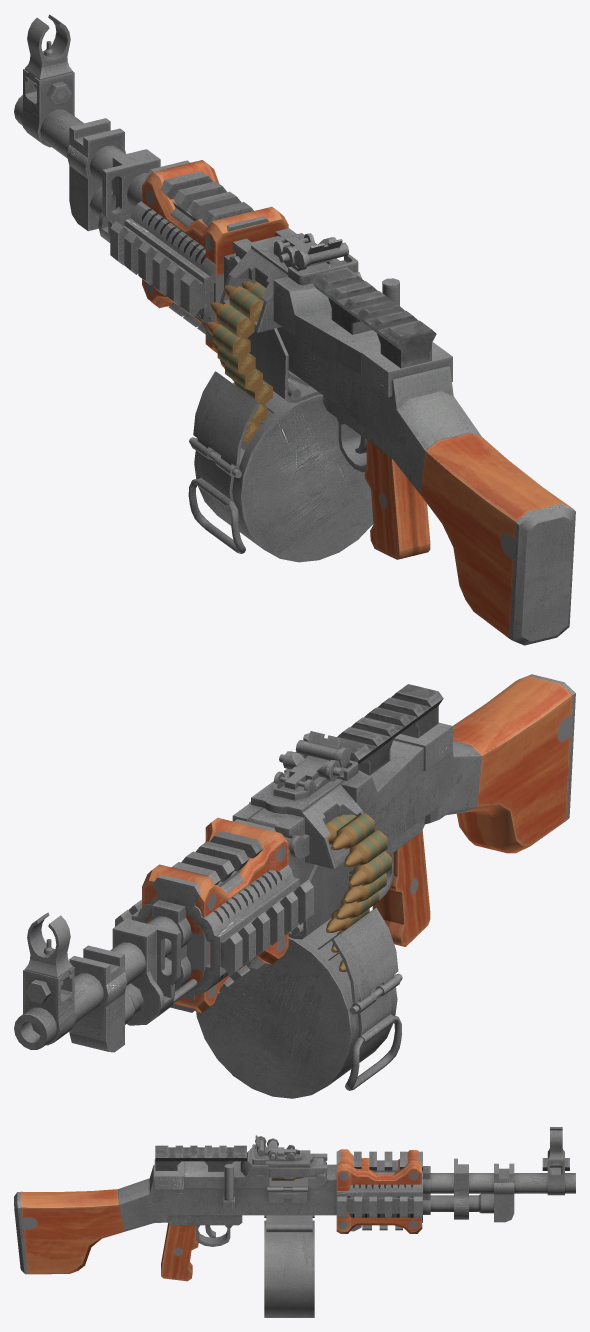
The model's file is IG_Gun_RPD.fbx.
The picture shows the model from 3 angles, top to bottom: view 1: azimuth 30°, elevation 25°; view 2: azimuth 150°, elevation 25°; view 3: azimuth 270°, elevation 25°; orthographic projection. The views are drawn at different scales.
Parts seen in each view (by area): view 1: WPN_RPD, HideIf_Stock, ShowIf_Grip, ShowIf_Scope, HideIf_Grip; view 2: WPN_RPD, HideIf_Stock, ShowIf_Grip, HideIf_Grip, ShowIf_Scope; view 3: WPN_RPD, HideIf_Stock, HideIf_Grip, ShowIf_Grip, ShowIf_Scope, ShowIf_Tec.
Part boxes in pixels (<box>): WPN_RPD: <box>14,14,453,562</box>; HideIf_Stock: <box>393,391,575,645</box>; ShowIf_Grip: <box>110,160,269,334</box>; ShowIf_Scope: <box>311,267,436,368</box>; HideIf_Grip: <box>142,160,288,353</box>; WPN_RPD: <box>14,722,453,1098</box>; HideIf_Stock: <box>446,674,575,853</box>; ShowIf_Grip: <box>131,819,313,1012</box>; HideIf_Grip: <box>142,817,288,1012</box>; ShowIf_Scope: <box>337,684,443,775</box>; WPN_RPD: <box>149,1127,575,1317</box>; HideIf_Stock: <box>14,1178,153,1274</box>; HideIf_Grip: <box>336,1149,422,1233</box>; ShowIf_Grip: <box>336,1151,422,1231</box>; ShowIf_Scope: <box>155,1145,246,1171</box>; ShowIf_Tec: <box>337,1196,422,1217</box>.
Size of the model in its own units: 0.2409 by 0.4812 by 1.33.
